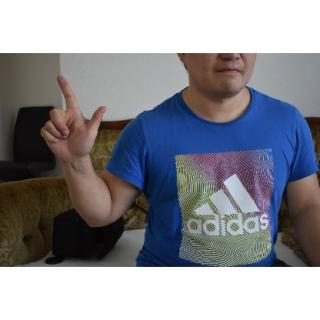LAAM: (41, 70, 109, 160)
